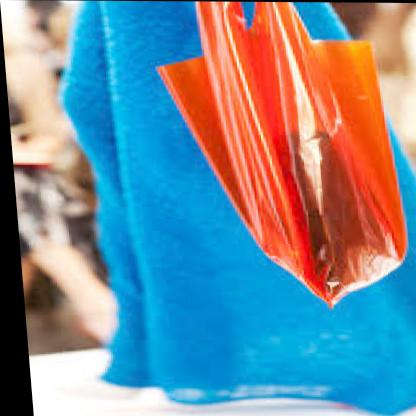Plastic: (153, 5, 415, 308)
